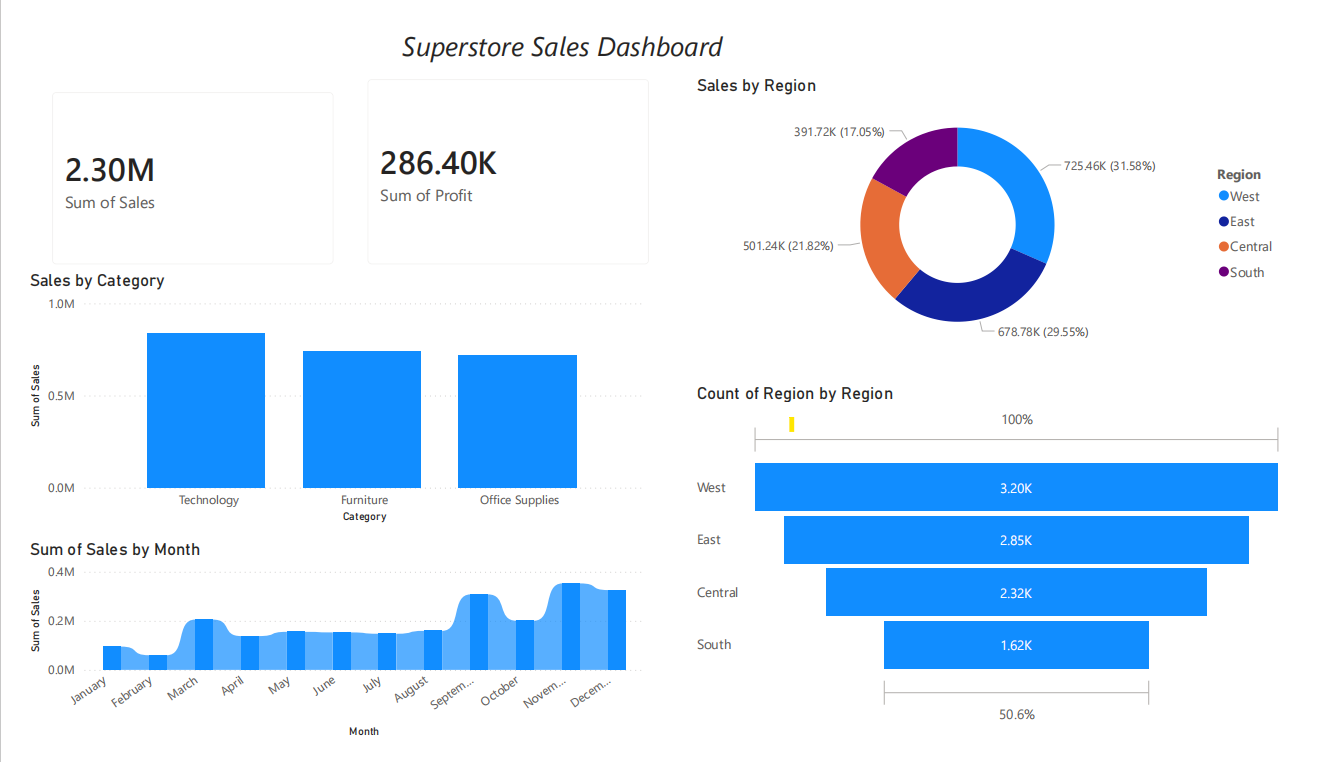

The page's visual inventory and layout, read from the dashboard file:
{"tool":"powerbi","page":{"name":"Page 1","canvas":[1280,720],"ordinal":0},"visuals":[{"type":"cardVisual","fields":{"Data":["Sum(Sample - Superstore.Sales)"]},"box":[10,52.5,315,206.2],"z":0},{"type":"cardVisual","fields":{"Data":["Sum(Sample - Superstore.Profit)"]},"box":[325,40,315,218.8],"z":1000},{"type":"columnChart","title":"Sales by Category","fields":{"Category":["Sample - Superstore.Category"],"Y":["Sum(Sample - Superstore.Sales)"]},"box":[0,247.5,623.8,257.5],"z":2000},{"type":"ribbonChart","fields":{"Category":["Sample - Superstore.Order Date.Variation.Date Hierarchy.Year","Sample - Superstore.Order Date.Variation.Date Hierarchy.Quarter","Sample - Superstore.Order Date.Variation.Date Hierarchy.Month","Sample - Superstore.Order Date.Variation.Date Hierarchy.Day"],"Y":["Sum(Sample - Superstore.Sales)"]},"box":[0,516.2,623.8,203.8],"z":3000},{"type":"donutChart","title":"Sales by Region","fields":{"Category":["Sample - Superstore.Region"],"Y":["Sum(Sample - Superstore.Sales)"]},"box":[666.2,52.5,595,280],"z":4000},{"type":"funnel","fields":{"Category":["Sample - Superstore.Region"],"Y":["CountNonNull(Sample - Superstore.Region)"]},"box":[666.2,360,595,347.5],"z":5000},{"type":"textbox","box":[305,0,355,52.5],"z":6000}]}

Visuals, with their boxes in screenshot pixels (x1, y1, x2, y2), scaled from the page's 1280x720 canvas onto the 1327x762 screenshot:
cardVisual - Sum(Sample - Superstore.Sales): (10,56,337,274)
cardVisual - Sum(Sample - Superstore.Profit): (337,42,664,274)
"Sales by Category" columnChart: (0,262,647,534)
ribbonChart - Sample - Superstore.Order Date.Variation.Date Hierarchy.Year x Sample - Superstore.Order Date.Variation.Date Hierarchy.Quarter: (0,546,647,761)
"Sales by Region" donutChart: (691,56,1308,352)
funnel - Sample - Superstore.Region x CountNonNull(Sample - Superstore.Region): (691,381,1308,749)
textbox: (316,0,684,56)
